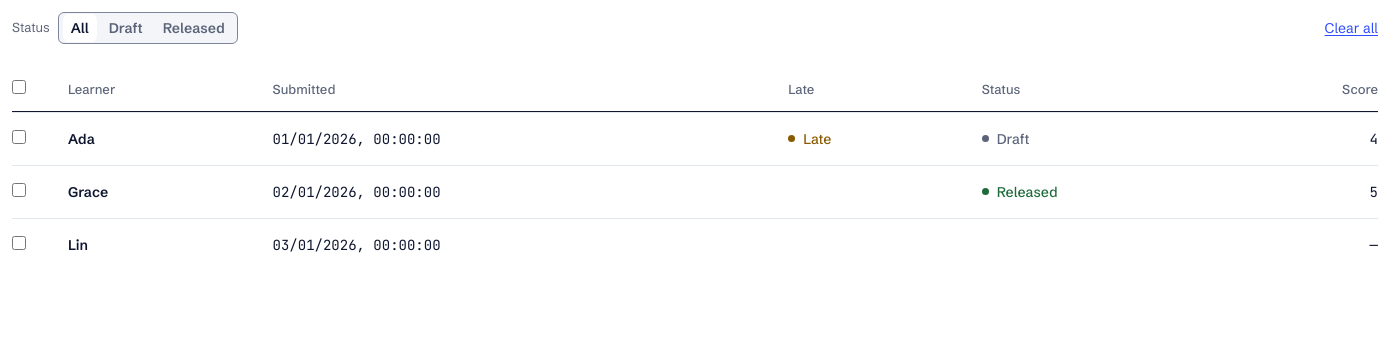
Test: grading queue › enables release only when at least one selected grade is draft
The width and height of the screenshot is (1390, 348).
Click the checkbox named "Select Grace".
click(19, 190)  # box [12, 183, 26, 197]
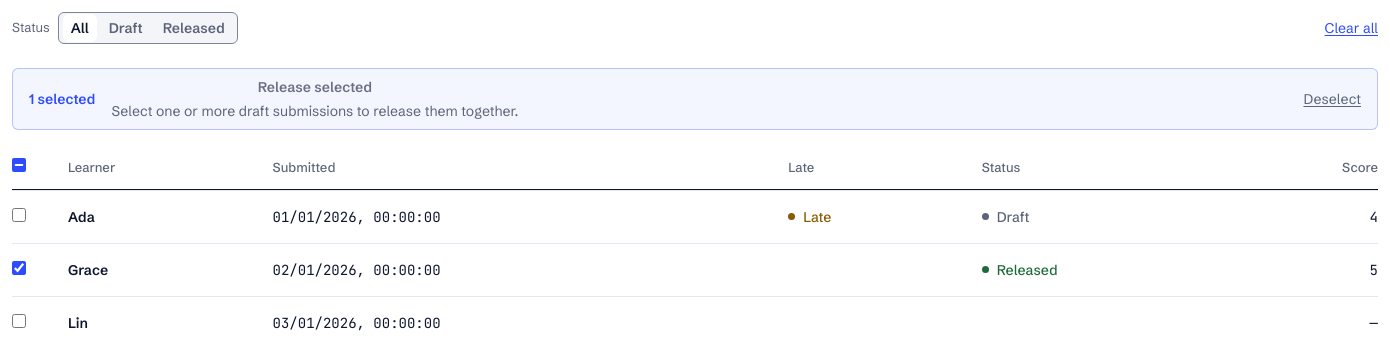
Result: the button "Release selected" is disabled at [111, 77, 518, 97]
Result: the text "Select one or more draft submissions to release them together." is shown at [111, 101, 518, 121]
Click the checkbox named "Select Ada".
click(19, 215)  # box [12, 208, 26, 222]
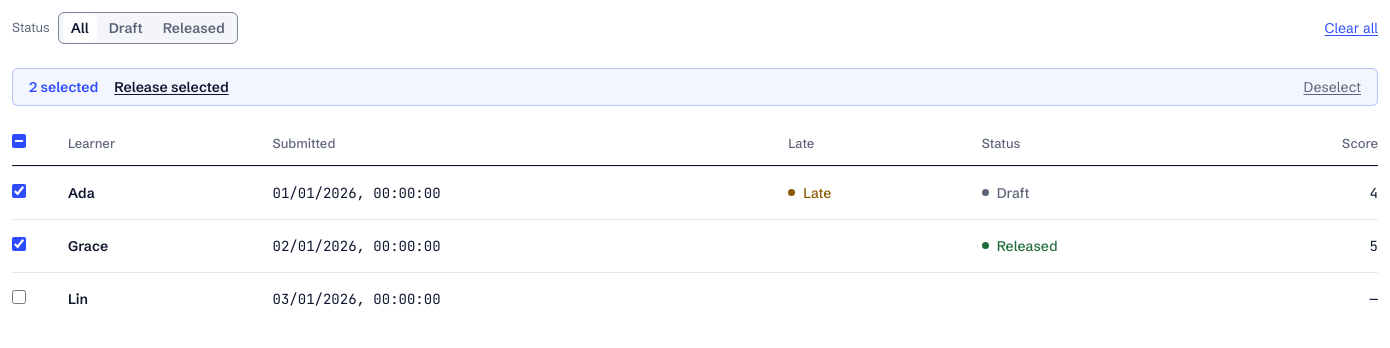
Result: the button "Release selected" is enabled at [114, 77, 229, 97]
